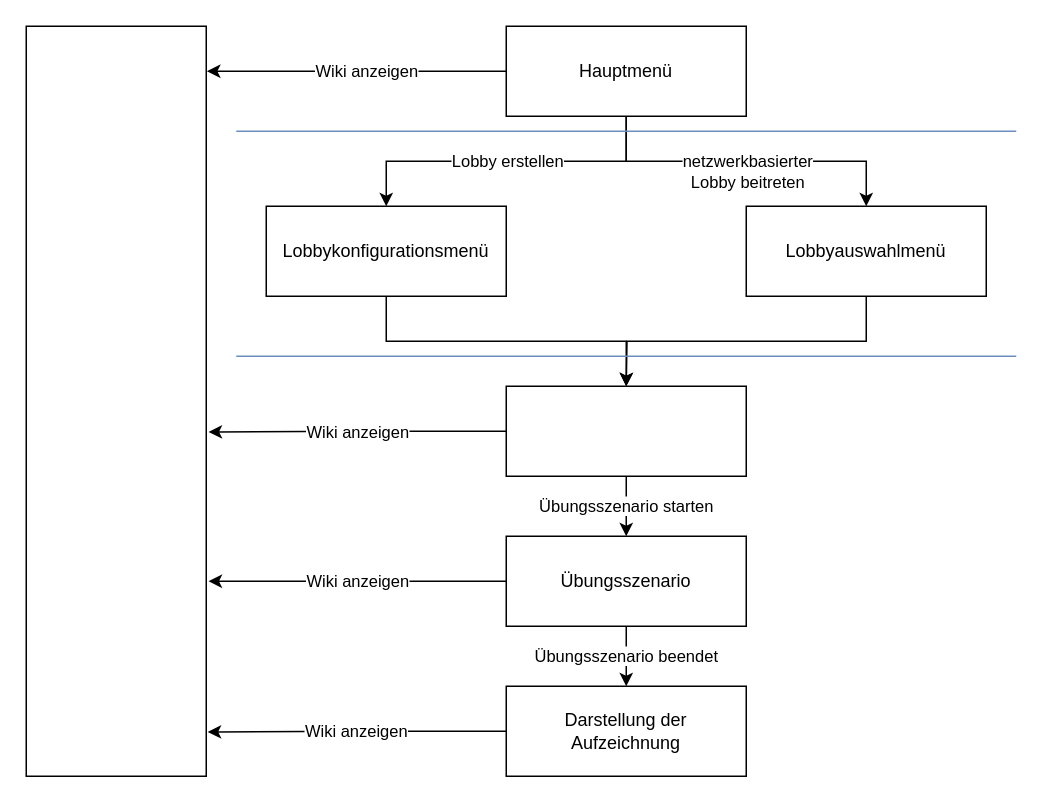
This 1044x803 diagram has some shape labels left out. The shapes that lost their labels are listed below. From the top down, each one's box as (x1, y1, x2, y2) in pixels, then its label:
(25, 25, 206, 776): Wiki
(505, 385, 746, 476): Lobby
